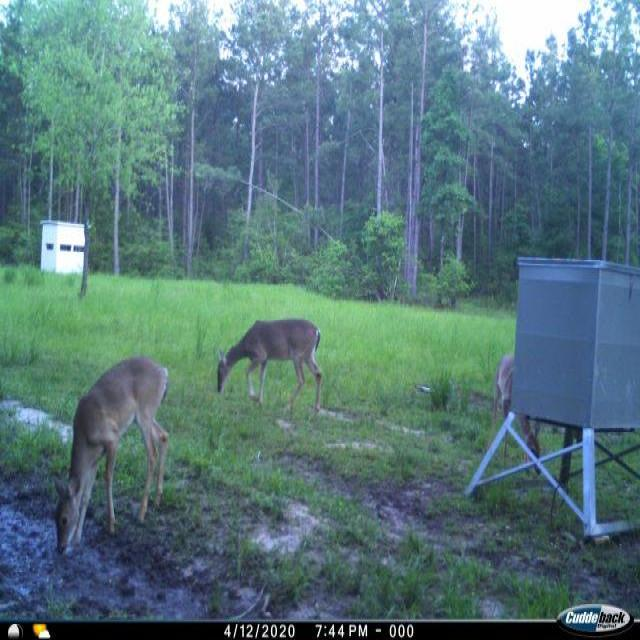deer: (44, 349, 178, 563), (210, 314, 334, 425), (487, 350, 547, 486)
